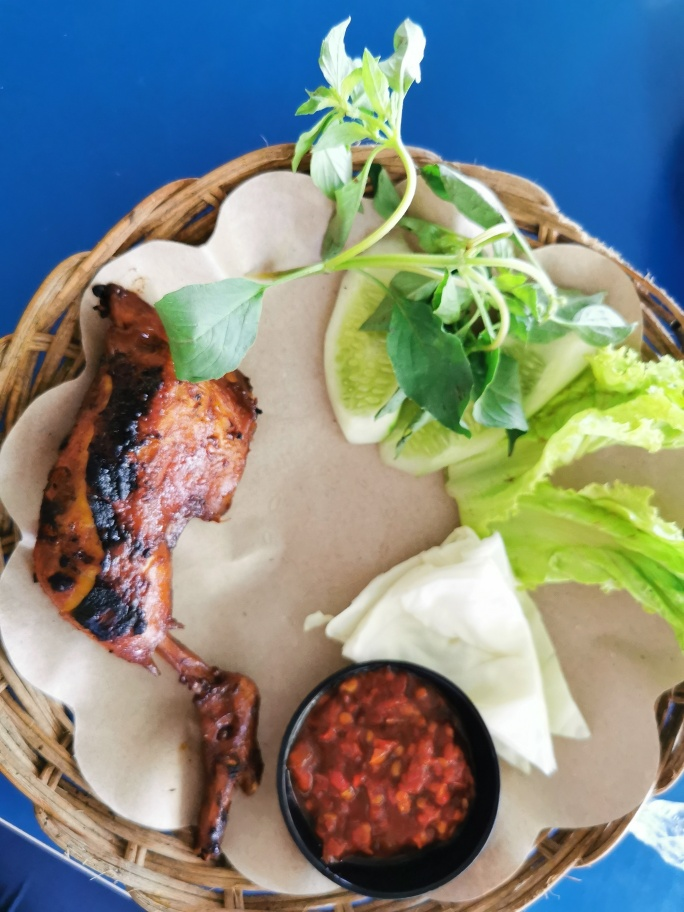ayam bakar: (34, 286, 317, 862)
